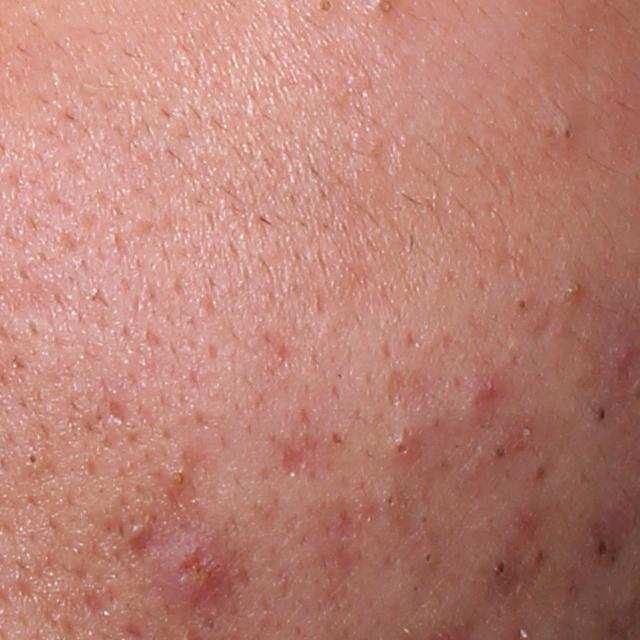atrophic_scar: (380, 368, 437, 414), (274, 432, 317, 481), (106, 395, 134, 426)
comedo: (169, 465, 195, 491), (22, 446, 44, 471), (565, 279, 585, 306), (592, 534, 608, 559), (419, 549, 437, 571), (513, 294, 531, 316), (592, 406, 609, 426), (381, 491, 398, 511), (393, 440, 409, 461), (534, 546, 551, 565), (493, 561, 508, 582), (531, 466, 548, 483), (329, 433, 342, 448), (492, 445, 504, 461)
papule: (158, 534, 236, 613), (470, 373, 501, 406)
